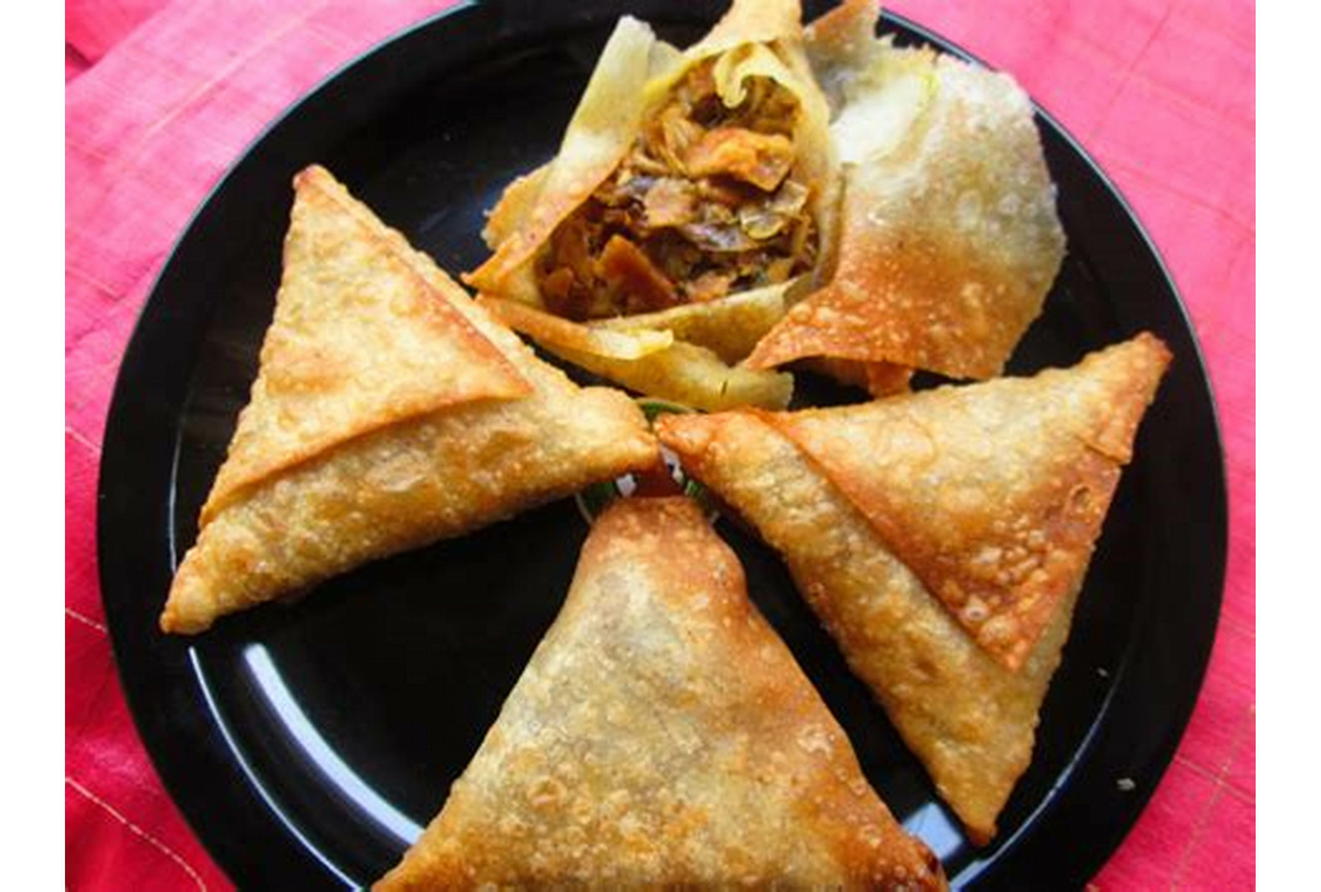Samosa: (647, 331, 1175, 848), (364, 460, 949, 892), (458, 0, 1068, 412), (156, 162, 659, 641)
